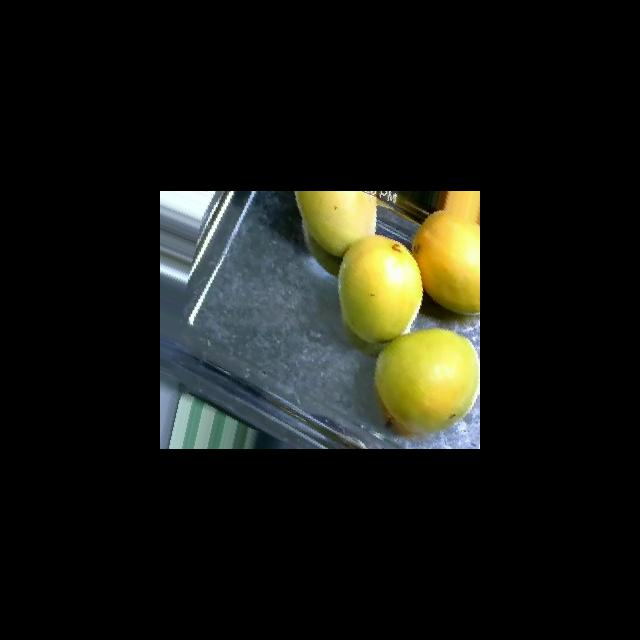mango: (373, 327, 479, 436), (337, 234, 423, 343), (411, 209, 479, 315), (293, 191, 377, 257)
